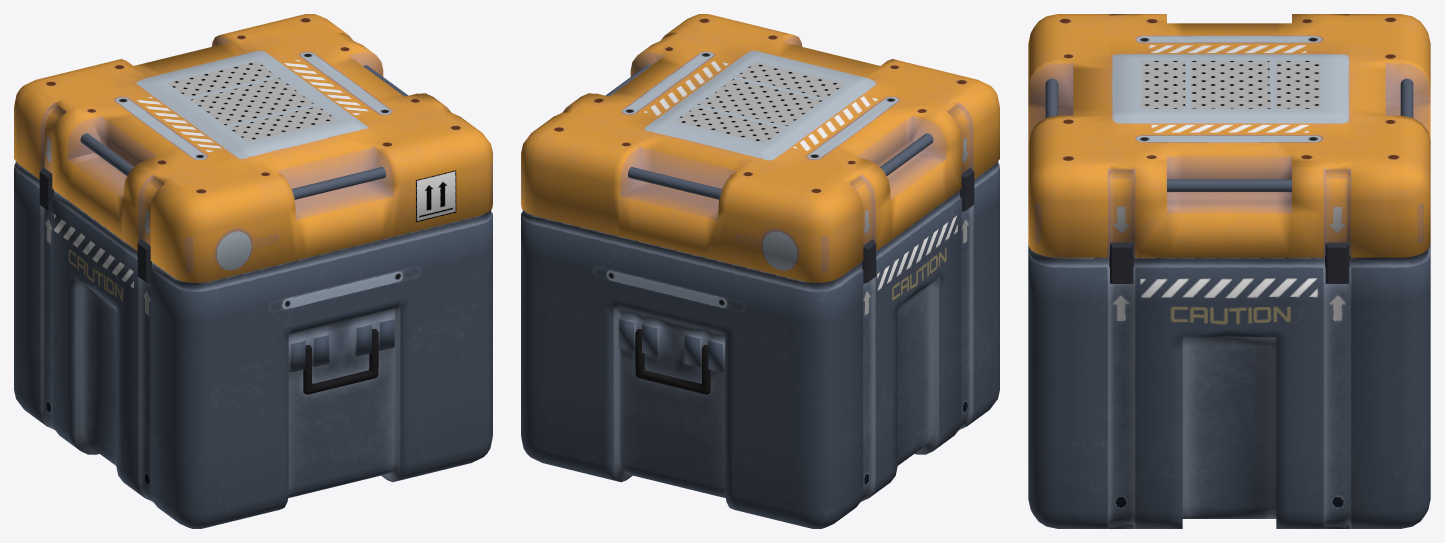
The picture shows the model from 3 angles, left to right: view 1: azimuth 30°, elevation 25°; view 2: azimuth 150°, elevation 25°; view 3: azimuth 270°, elevation 25°; orthographic projection. The views are drawn at different scales.
Parts seen in each view (by area): view 1: SF box; view 2: SF box; view 3: SF box.
Boxes of the visible parts, box(x1,y1,x2,y2) form: SF box: box(14, 14, 492, 528); SF box: box(521, 14, 999, 528); SF box: box(1028, 14, 1430, 528).
Bounding box in the file's own units: 76.12 × 75.84 × 74.99.
